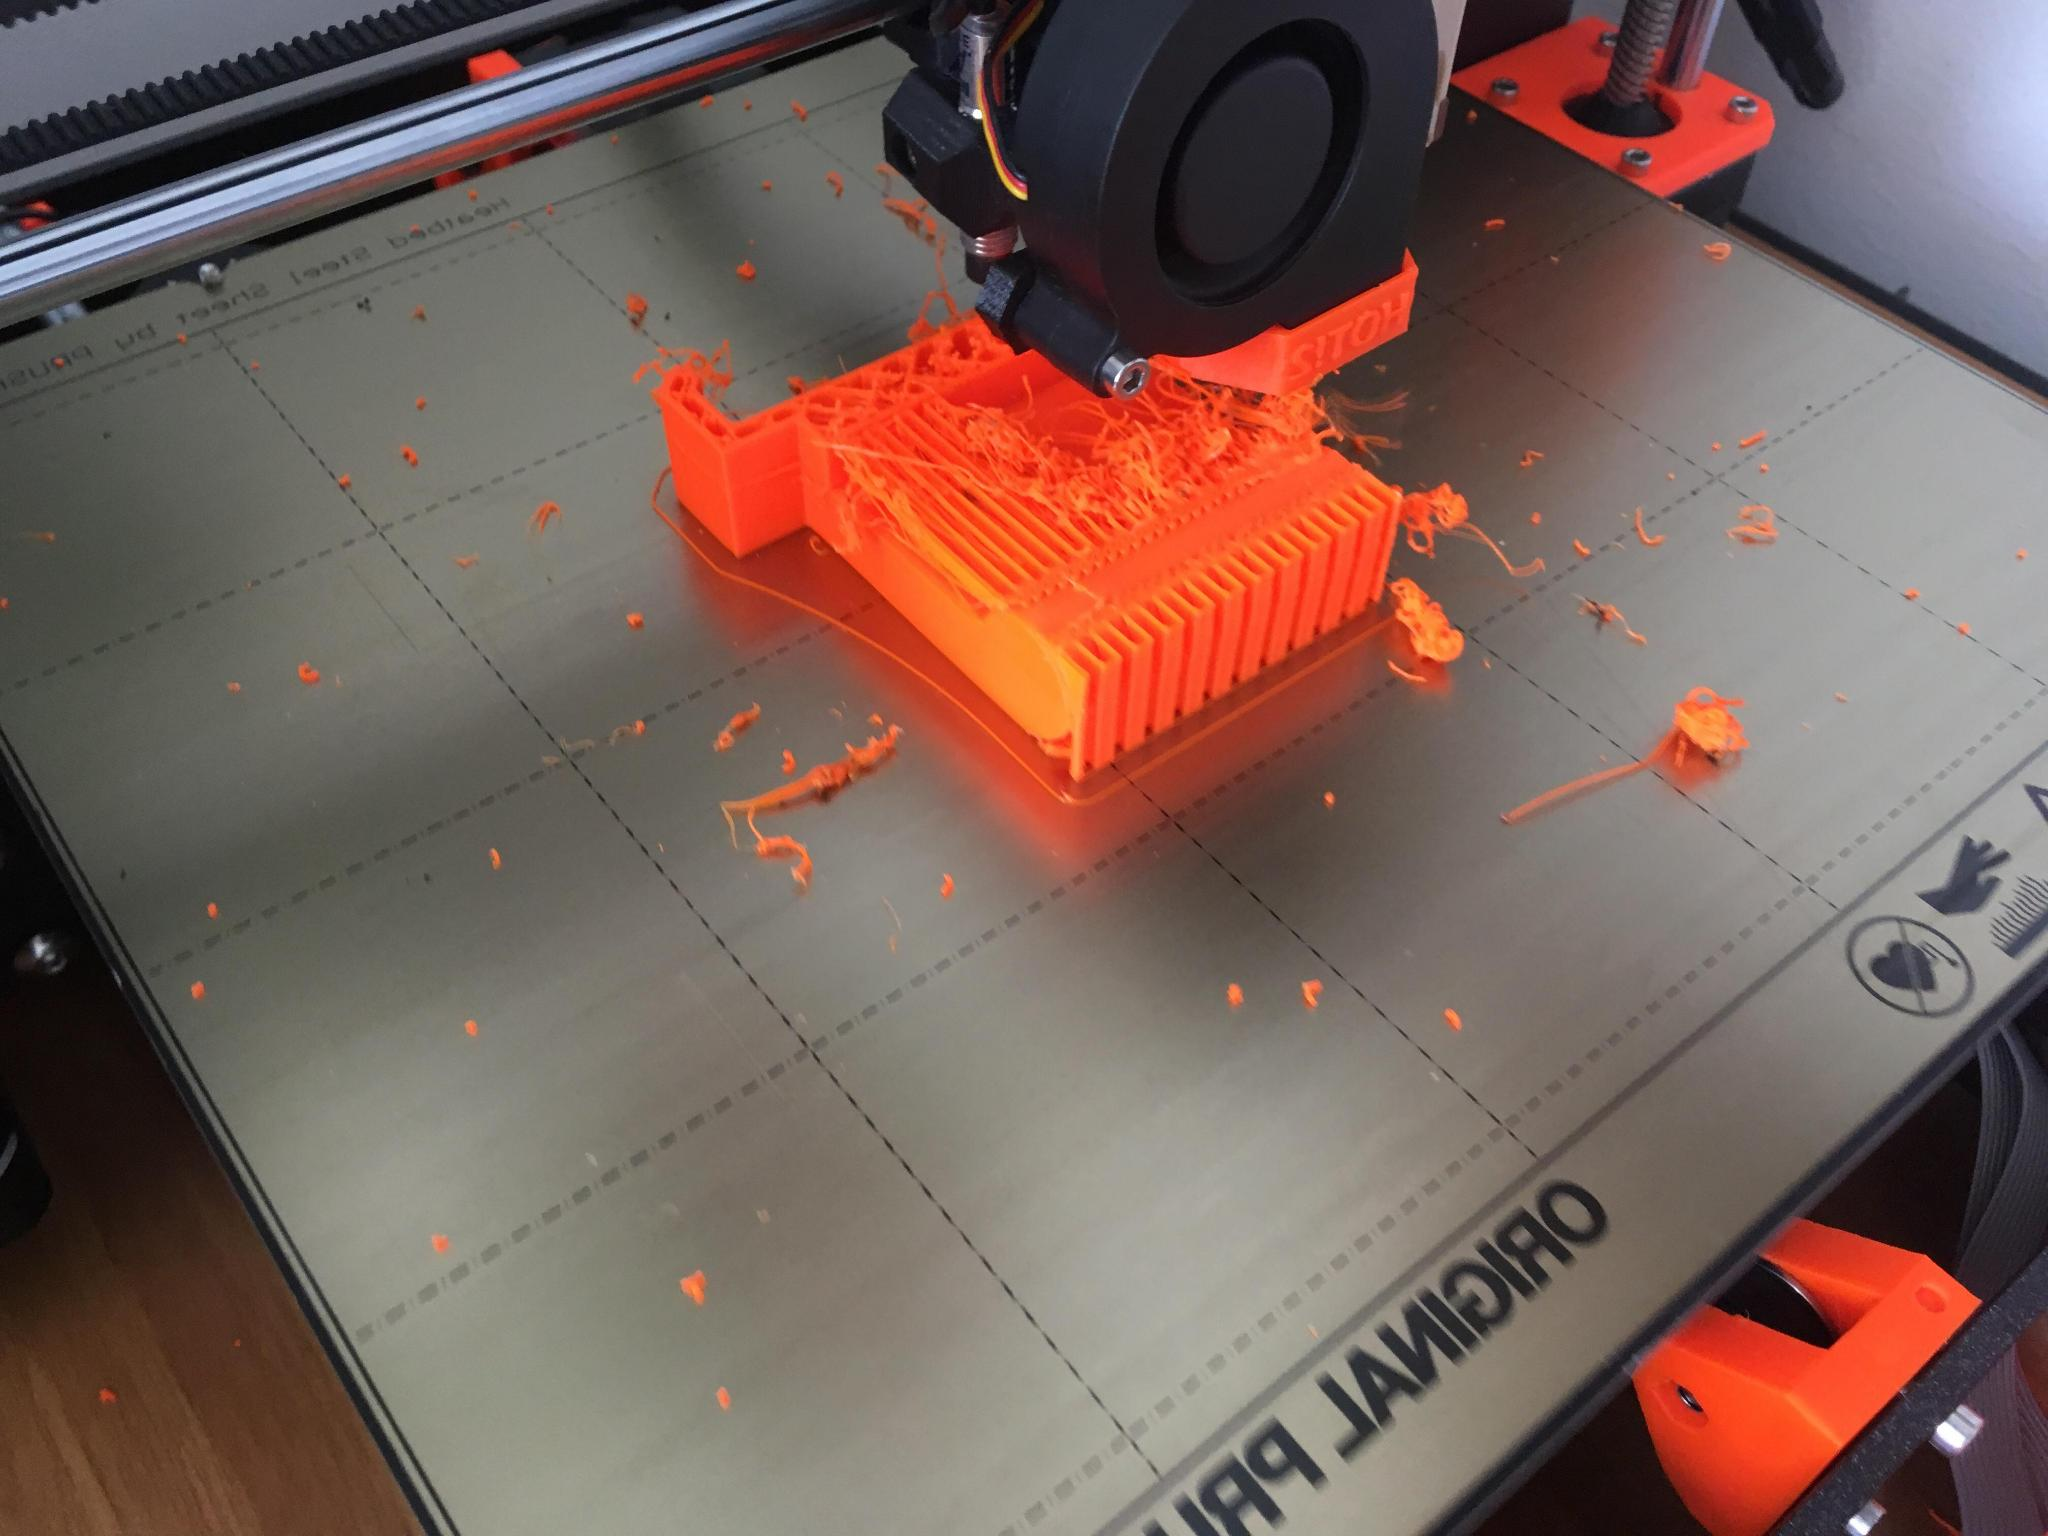Printing-Artifact: (913, 321, 1287, 532), (655, 679, 922, 897), (1613, 679, 1775, 807), (1374, 570, 1492, 679), (1385, 468, 1484, 566)
